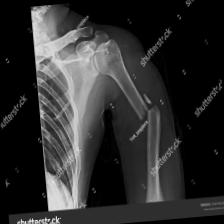closed-simple-fracture: (31, 0, 193, 212)
